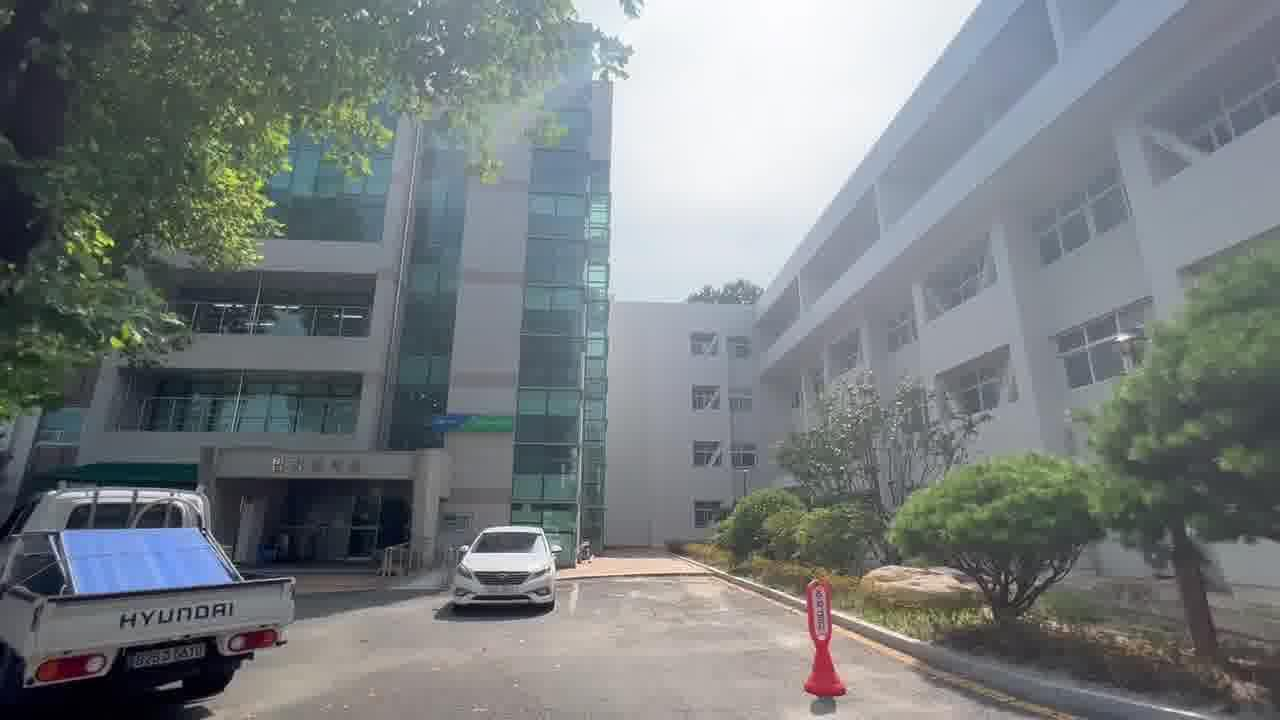building: (250, 191, 740, 556)
